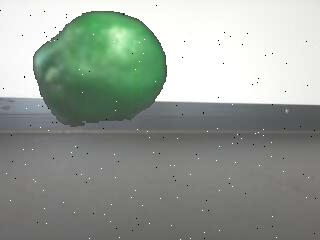Lime: (32, 11, 167, 128)
